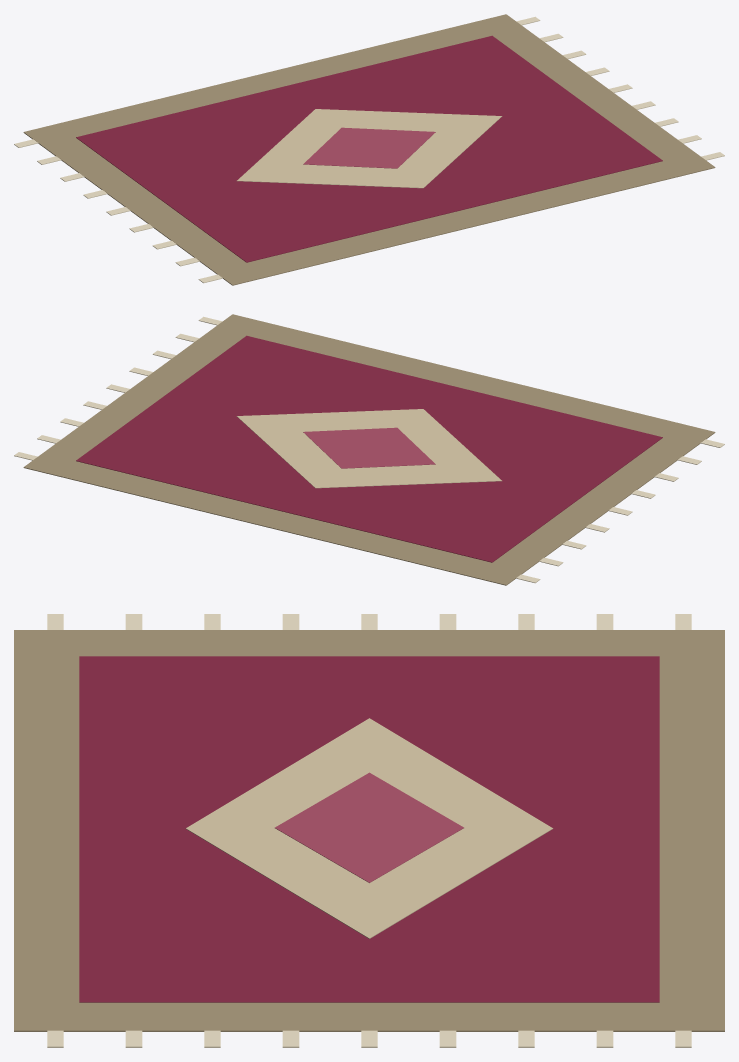
Rendered from Rug_8x6.fbx.
The picture shows the model from 3 angles, top to bottom: view 1: azimuth 30°, elevation 25°; view 2: azimuth 150°, elevation 25°; view 3: azimuth 270°, elevation 25°; orthographic projection. The views are drawn at different scales.
Parts seen in each view (by area): view 1: Rug_8x6; view 2: Rug_8x6; view 3: Rug_8x6.
Boxes of the visible parts, bbox=[...] form: Rug_8x6: bbox=[14, 14, 724, 285]; Rug_8x6: bbox=[14, 314, 724, 585]; Rug_8x6: bbox=[14, 614, 724, 1047].
Size of the model in its own units: 8.64 by 0.036 by 6.
1 material, 1 textured.
